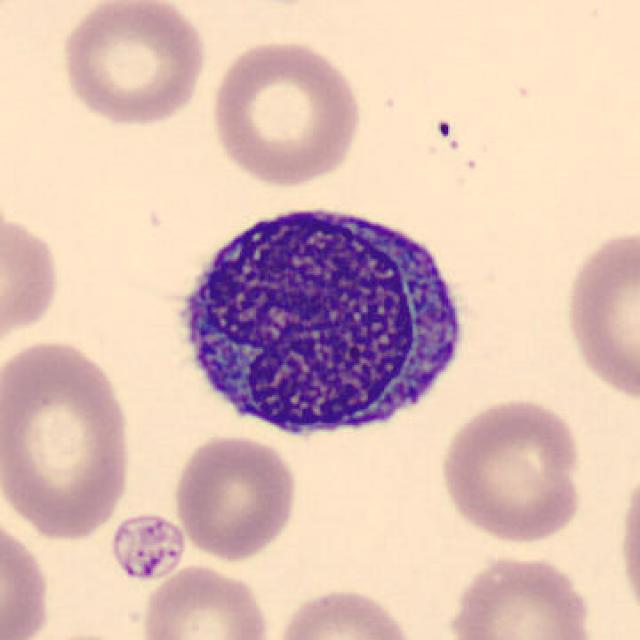Monocyte: (162, 189, 474, 453)
Platelets: (106, 509, 188, 584)
RBC: (0, 333, 139, 543), (206, 37, 364, 189), (436, 393, 586, 547), (57, 0, 211, 129), (169, 430, 302, 562), (560, 222, 638, 406), (445, 550, 599, 640), (135, 560, 273, 640), (0, 203, 64, 356), (272, 583, 419, 640), (0, 508, 53, 640), (615, 455, 640, 628), (12, 627, 152, 640)
